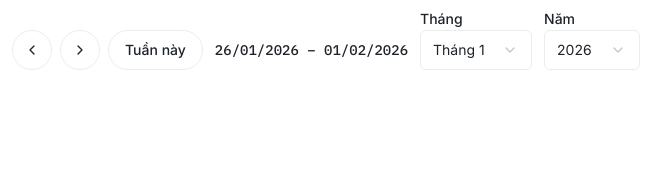
Test: bộ lọc tháng/năm › "Tuần sau" rồi "Tuần trước" qua tháng giữ bộ lọc đồng bộ với nhãn tuần
Click the button named "Tuần sau" at x=80, y=50, box [60,30,100,70]
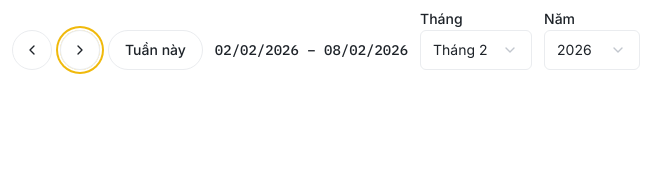
Expected: the text "02/02/2026 – 08/02/2026" is shown, [215,41,408,59]
Expected: the dropdown labelled "Tháng" shows "Tháng 2", [420,30,532,70]
Click the button named "Tuần trước" at x=32, y=50, box [12,30,52,70]
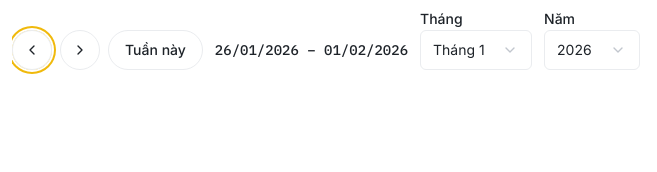
Expected: the text "26/01/2026 – 01/02/2026" is shown, [215,41,408,59]
Expected: the dropdown labelled "Tháng" shows "Tháng 1", [420,30,532,70]
